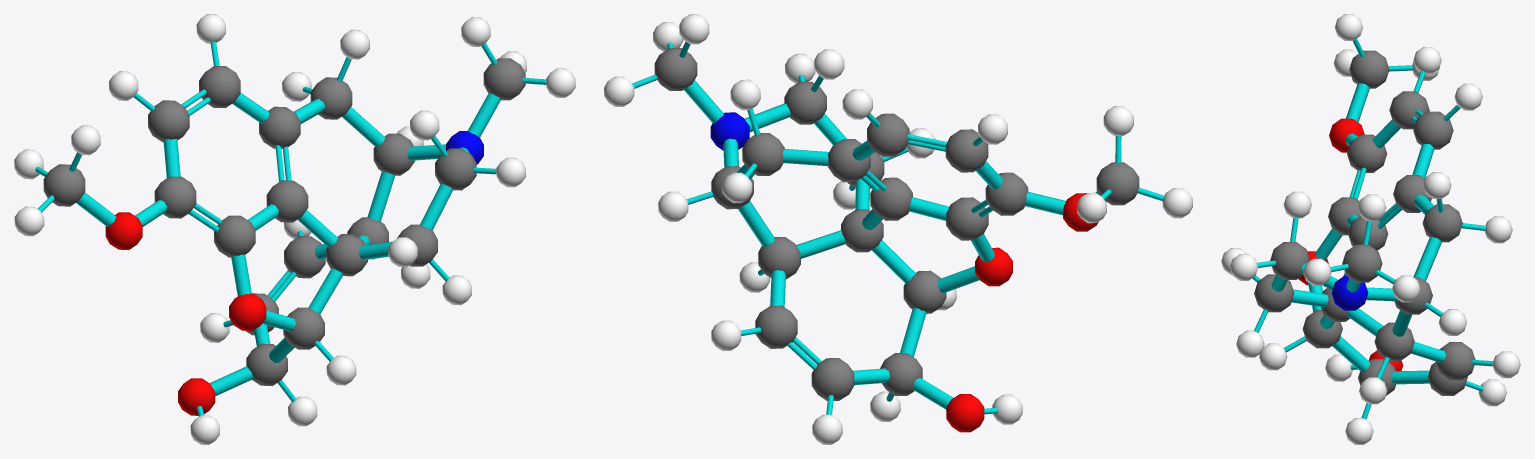
File: codeine.glb
3 views of the same model, side by side, from view 1: azimuth 30°, elevation 25°; view 2: azimuth 150°, elevation 25°; view 3: azimuth 270°, elevation 25° (orthographic). The views are drawn at different scales.
Parts seen in each view (by area): view 1: node-geom68, node-geom72, node-geom66, node-geom71, node-geom62, node-geom69, node-geom63, node-geom60, node-geom70, node-geom65, node-geom57, node-geom61 (+37 smaller); view 2: node-geom67, node-geom65, node-geom72, node-geom68, node-geom69, node-geom71, node-geom61, node-geom62, node-geom60, node-geom66, node-geom70, node-geom58 (+38 smaller); view 3: node-geom68, node-geom72, node-geom61, node-geom69, node-geom65, node-geom62, node-geom70, node-geom56, node-geom71, node-geom59, node-geom58, node-geom63 (+40 smaller).
Boxes of the visible parts, x1,y1,x2,y2 form: node-geom68: (483, 58, 525, 100); node-geom72: (43, 164, 85, 206); node-geom66: (214, 215, 255, 257); node-geom71: (148, 100, 189, 142); node-geom62: (435, 148, 476, 190); node-geom69: (199, 66, 240, 108); node-geom63: (259, 106, 300, 148); node-geom60: (266, 180, 308, 222); node-geom70: (154, 176, 196, 218); node-geom65: (284, 236, 325, 278); node-geom57: (373, 133, 415, 175); node-geom61: (310, 77, 352, 119); node-geom67: (811, 358, 854, 400); node-geom65: (755, 305, 797, 348); node-geom72: (1096, 162, 1139, 205); node-geom68: (654, 48, 697, 91); node-geom69: (867, 113, 909, 156); node-geom71: (945, 129, 988, 172); node-geom61: (742, 133, 784, 175); node-geom62: (784, 81, 826, 124); node-geom60: (870, 177, 912, 220); node-geom66: (946, 197, 988, 240); node-geom70: (985, 172, 1028, 215); node-geom58: (903, 270, 946, 313); node-geom68: (1342, 244, 1382, 282); node-geom72: (1349, 50, 1389, 88); node-geom61: (1422, 204, 1462, 242); node-geom69: (1413, 111, 1453, 149); node-geom65: (1435, 342, 1475, 380); node-geom62: (1270, 242, 1310, 279); node-geom70: (1347, 134, 1387, 172); node-geom56: (1374, 322, 1414, 360); node-geom71: (1389, 91, 1429, 129); node-geom59: (1254, 274, 1294, 312); node-geom58: (1302, 310, 1342, 348); node-geom63: (1393, 175, 1431, 212).
Bounding box in the file's own units: 11.15 × 7.38 × 5.8.
